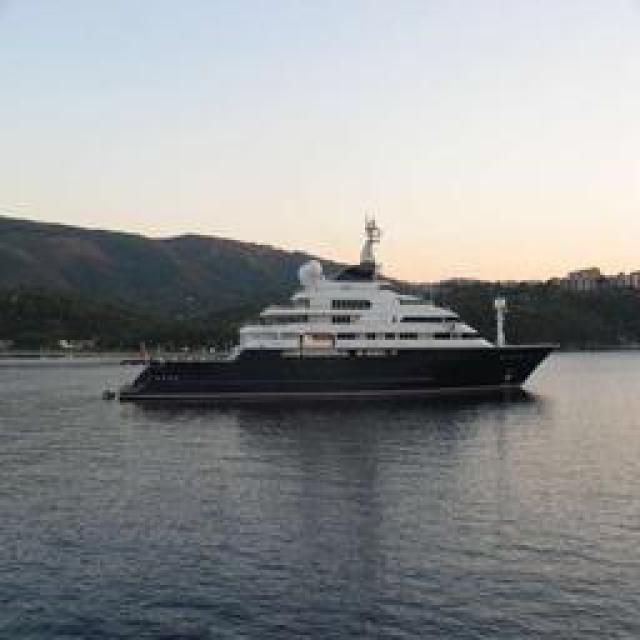ship2: (120, 211, 559, 408)
